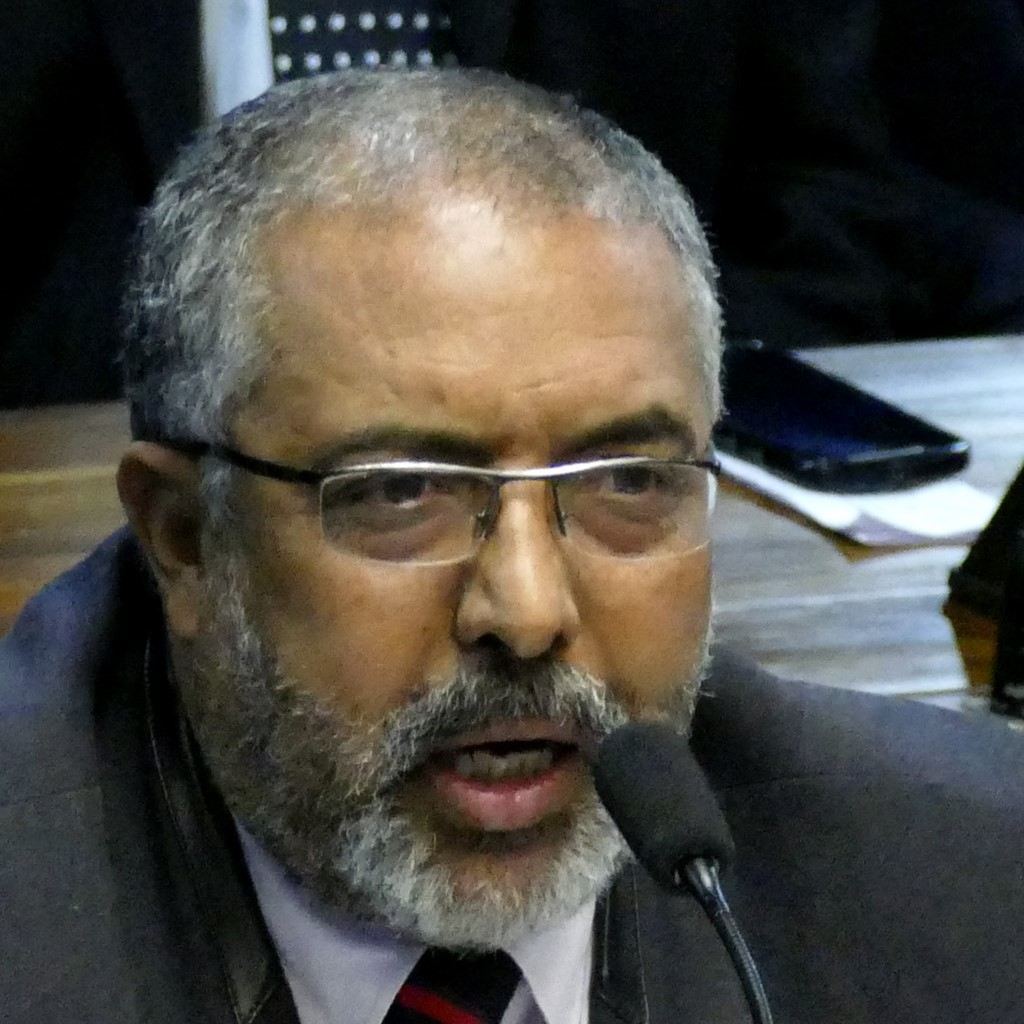sin_mascara: (202, 130, 733, 914)
